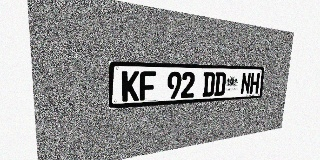2: (181, 72, 195, 98)
9: (167, 71, 182, 99)
D: (202, 72, 215, 97), (214, 72, 226, 96)
F: (139, 71, 156, 101)
H: (249, 73, 260, 94)
K: (122, 71, 139, 102)
N: (240, 72, 251, 95)
